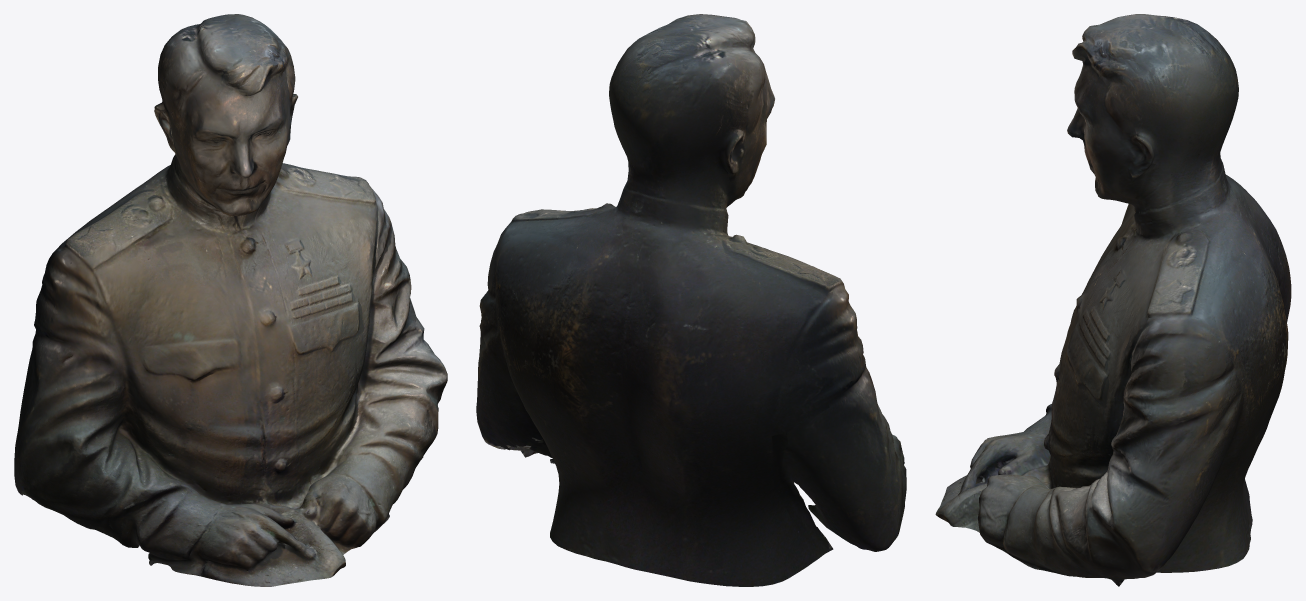
File: malinovski.glb
The picture shows the model from 3 angles, left to right: view 1: azimuth 30°, elevation 25°; view 2: azimuth 150°, elevation 25°; view 3: azimuth 270°, elevation 25°; orthographic projection. The views are drawn at different scales.
Parts seen in each view (by area): view 1: malinovski; view 2: malinovski; view 3: malinovski.
Boxes of the visible parts, x1,y1,x2,y2 form: malinovski: [14, 14, 447, 586]; malinovski: [476, 14, 906, 586]; malinovski: [935, 14, 1291, 586].
Size of the model in its own units: 1.22 by 1.36 by 0.8888.
Materials: 1 (1 with a texture image).
